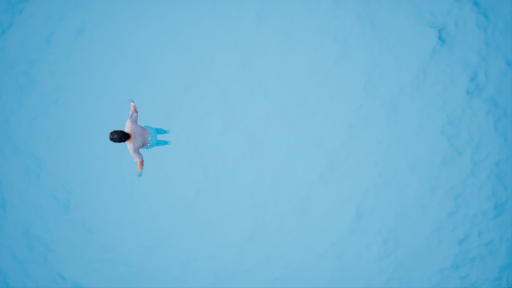person: (107, 95, 178, 175)
